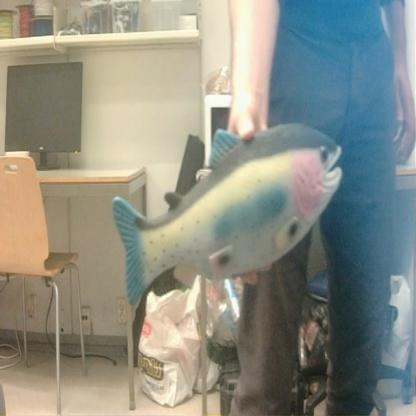rubberfish: (109, 114, 344, 311)
